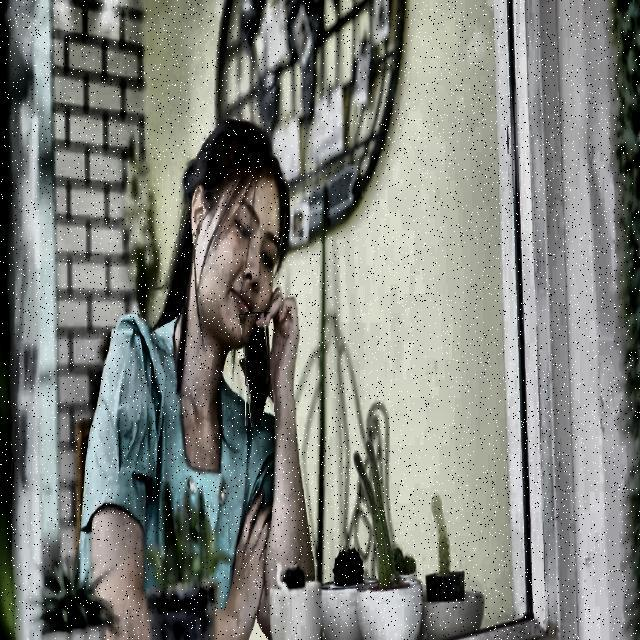Phone: (242, 312, 272, 427)
